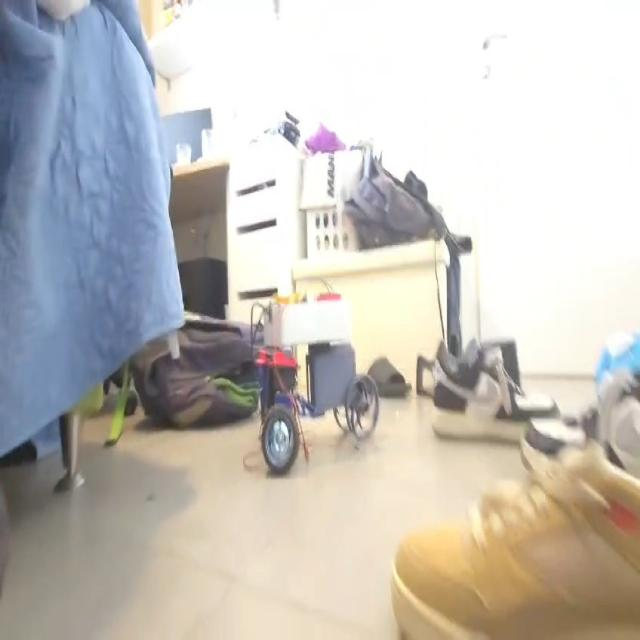Robot: (253, 290, 378, 475)
